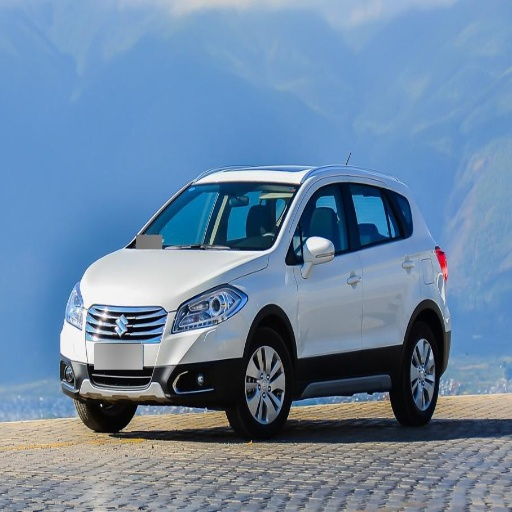back_left_door: (349, 177, 422, 371)
front_bumper: (60, 295, 253, 407)
front_glass: (128, 180, 297, 249)
front_left_door: (290, 178, 362, 377)
